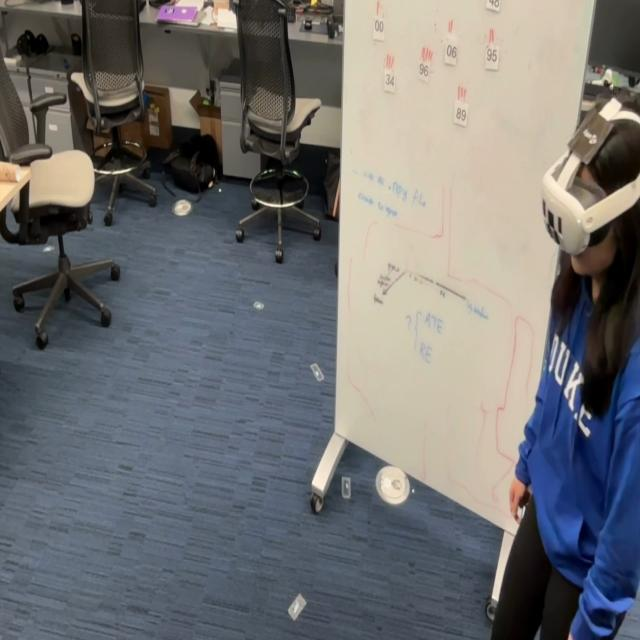Headset: (540, 94, 639, 256)
UnityLogo: (568, 104, 612, 167)
